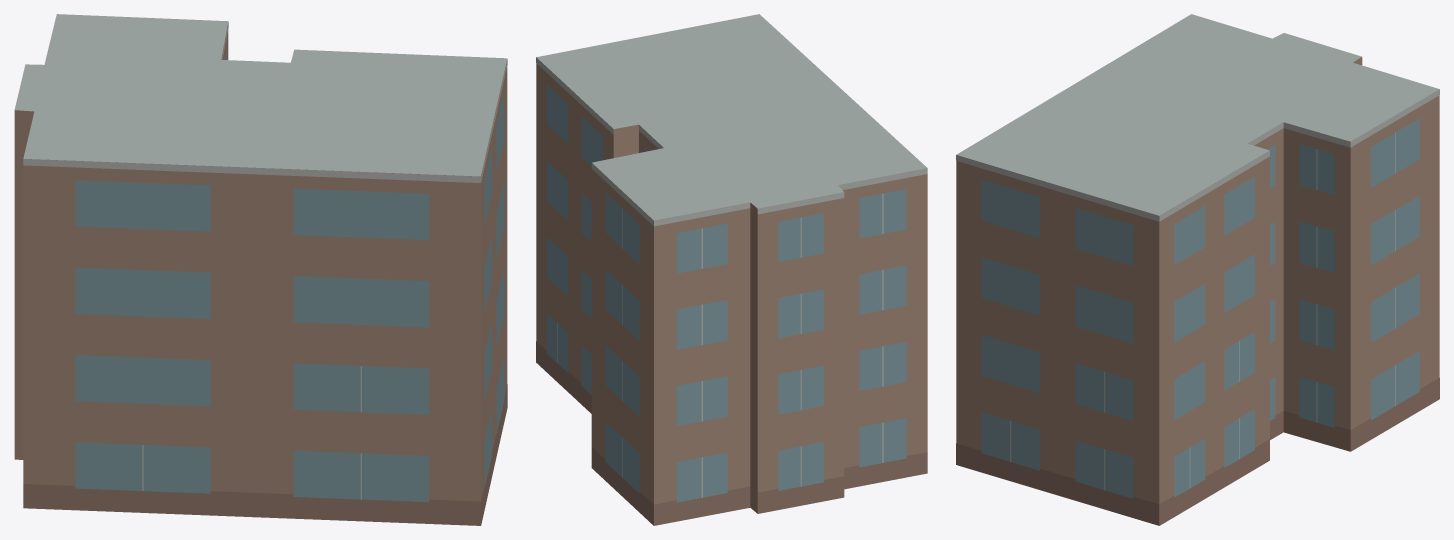
File: survey-upis-33030458.glb
3 views of the same model, side by side, from view 1: azimuth 30°, elevation 25°; view 2: azimuth 150°, elevation 25°; view 3: azimuth 270°, elevation 25° (orthographic). The views are drawn at different scales.
Parts seen in each view (by area): view 1: survey-upis-33030458.tmp; view 2: survey-upis-33030458.tmp; view 3: survey-upis-33030458.tmp.
Part boxes in pixels (box(x1,y1,x2,y2)): survey-upis-33030458.tmp: box(14, 14, 507, 525); survey-upis-33030458.tmp: box(536, 14, 927, 525); survey-upis-33030458.tmp: box(956, 14, 1439, 525).
Bounding box in the file's own units: 17.88 × 12.8 × 18.1.
